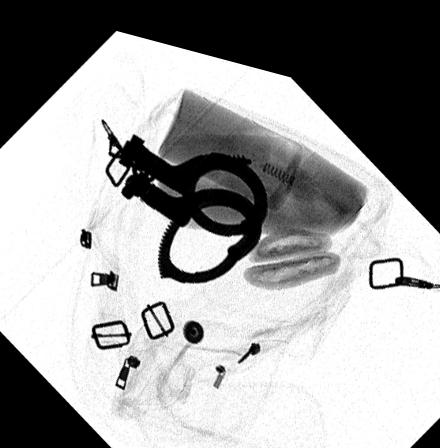HandCuffs: (107, 125, 267, 273)
